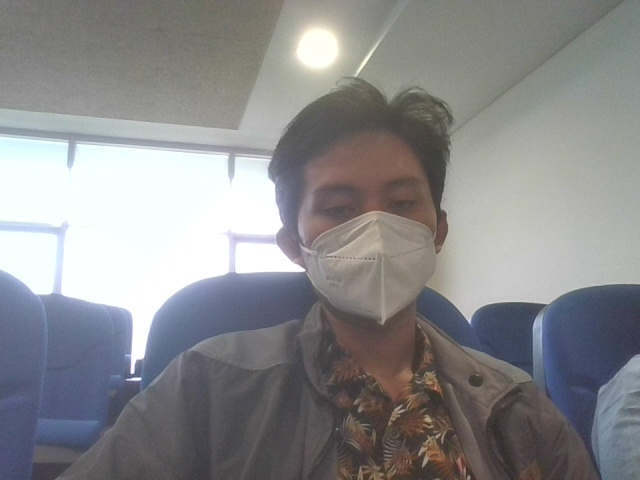Drowsy: (260, 85, 474, 409)
